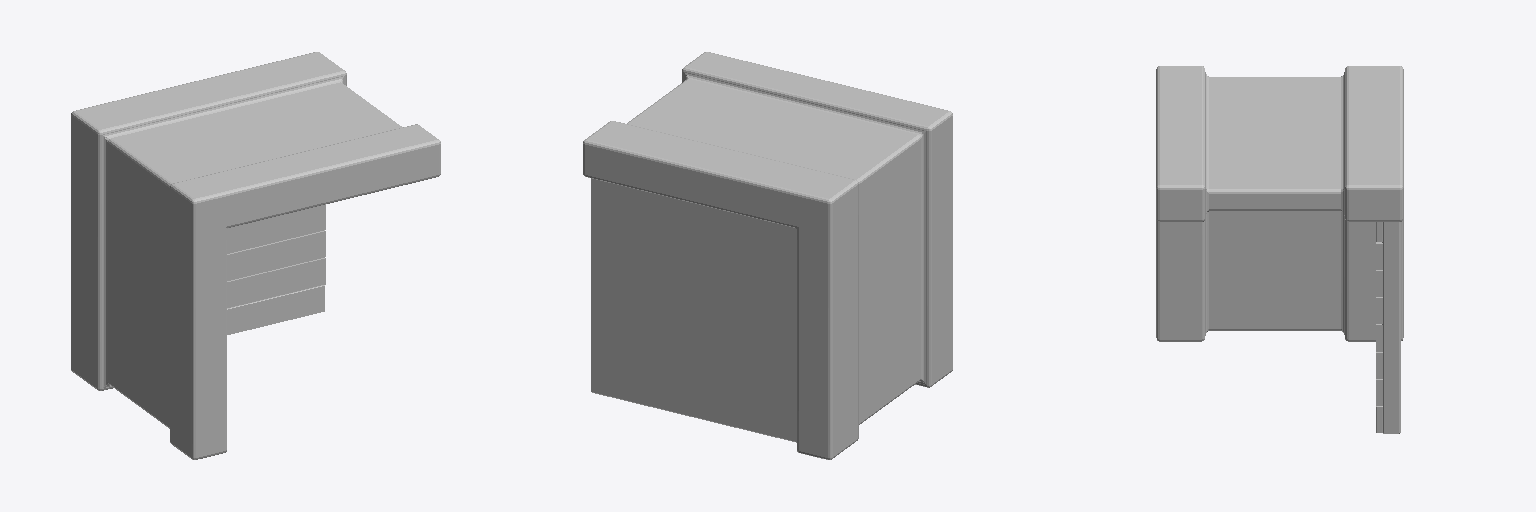
The model's file is room.obj.
The picture shows the model from 3 angles: view 1: azimuth 30°, elevation 25°; view 2: azimuth 150°, elevation 25°; view 3: azimuth 270°, elevation 25°; orthographic projection.
Parts seen in each view (by area): view 1: obj10, obj7, obj8, obj9, obj6; view 2: obj10; view 3: obj10.
Part boxes in pixels (left/top/right/bottom): obj10: left=71, top=52, right=440, bottom=459; obj7: left=227, top=230, right=325, bottom=280; obj8: left=227, top=258, right=325, bottom=307; obj9: left=227, top=285, right=324, bottom=334; obj6: left=227, top=204, right=325, bottom=253; obj10: left=583, top=52, right=952, bottom=459; obj10: left=1156, top=66, right=1403, bottom=341.
Bounding box in the file's own units: 2.33 × 2.33 × 2.